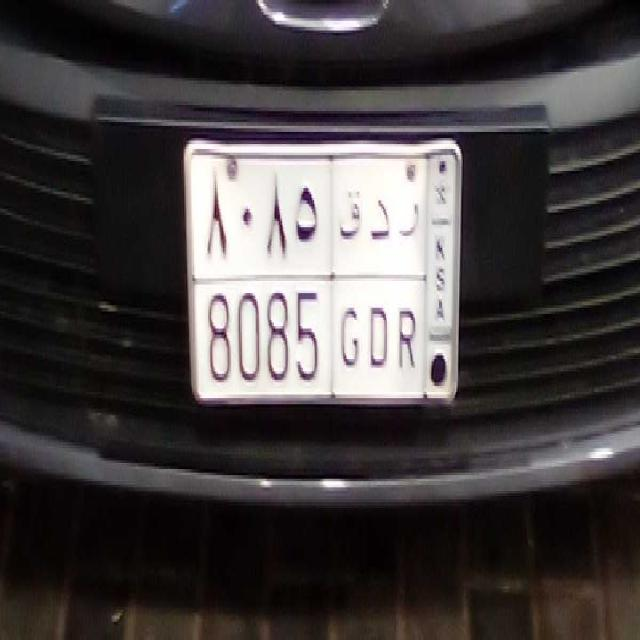license_plate: (200, 269, 426, 395)
